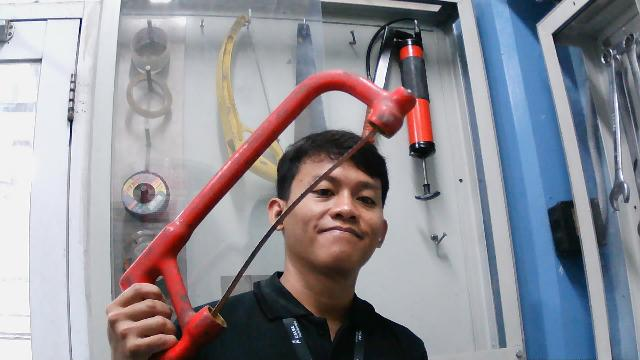gergaji_besi: (104, 67, 419, 360)
